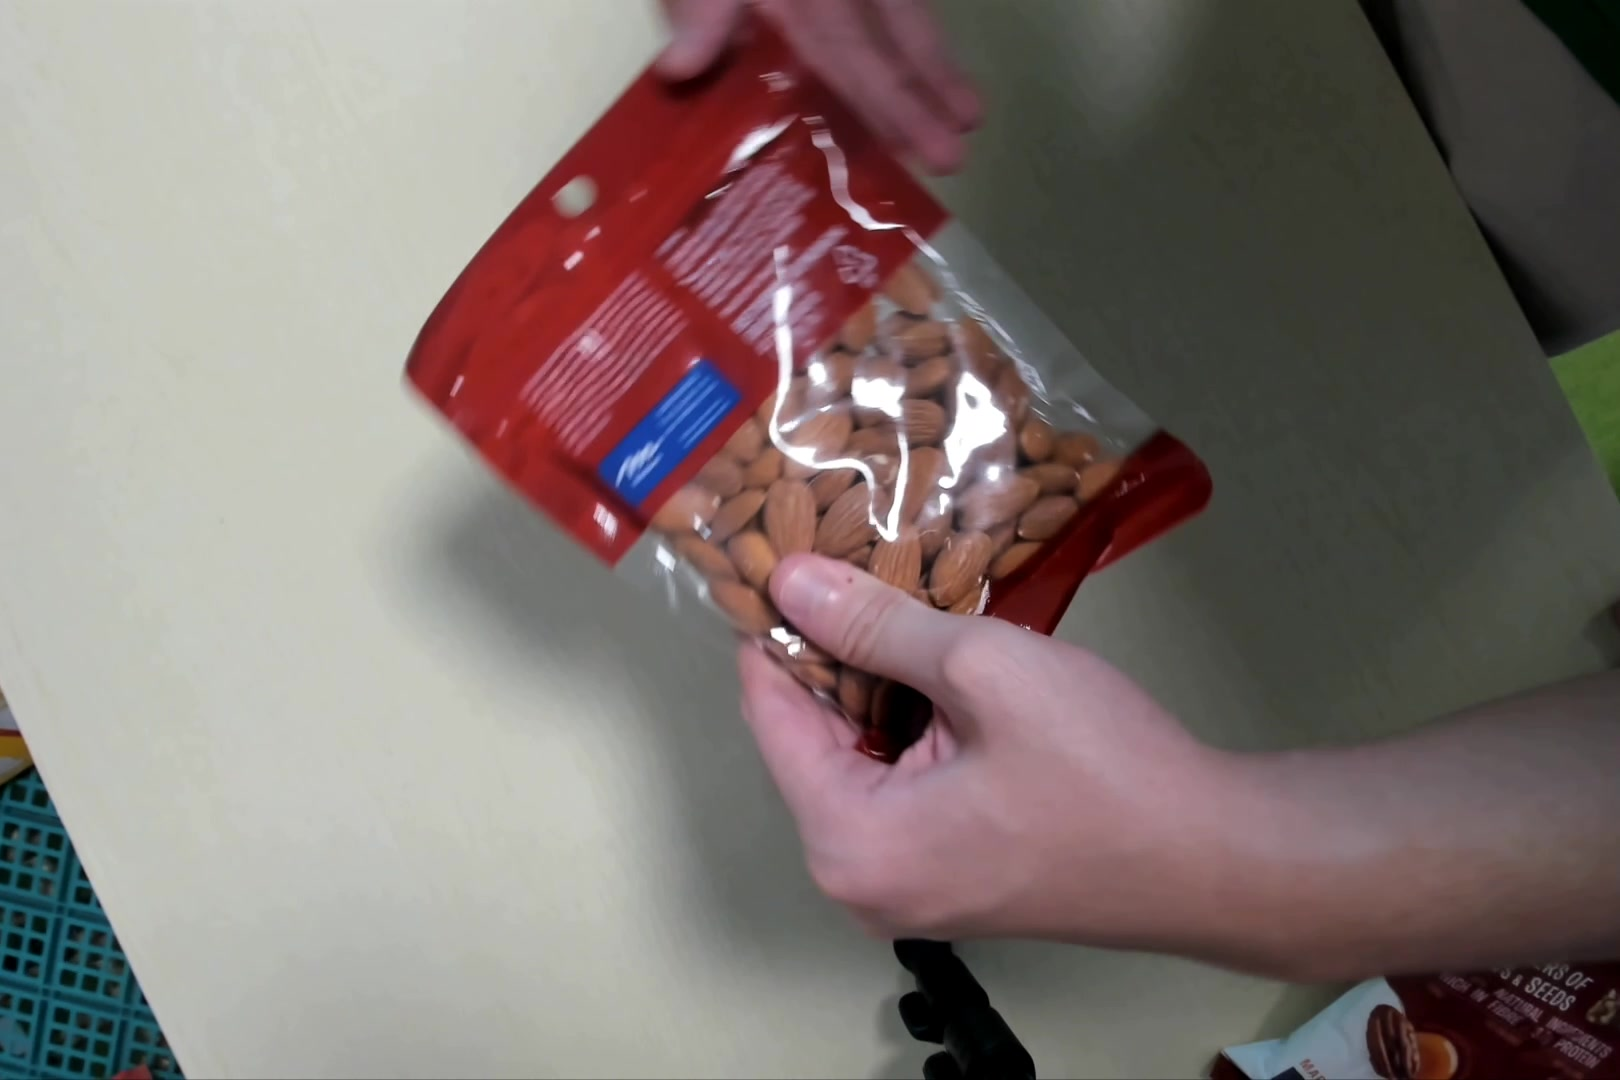Nuts_100-199g_NonHalal_NonHealthy: (415, 23, 1211, 752)
